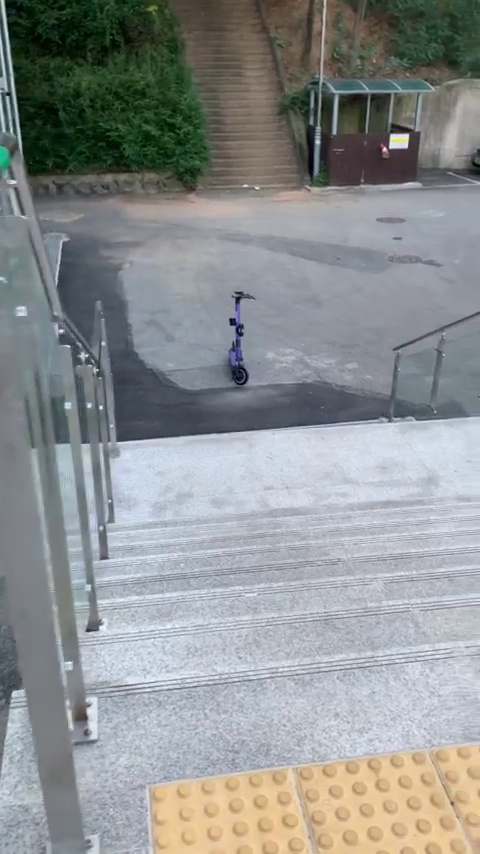beam: (220, 286, 260, 392)
